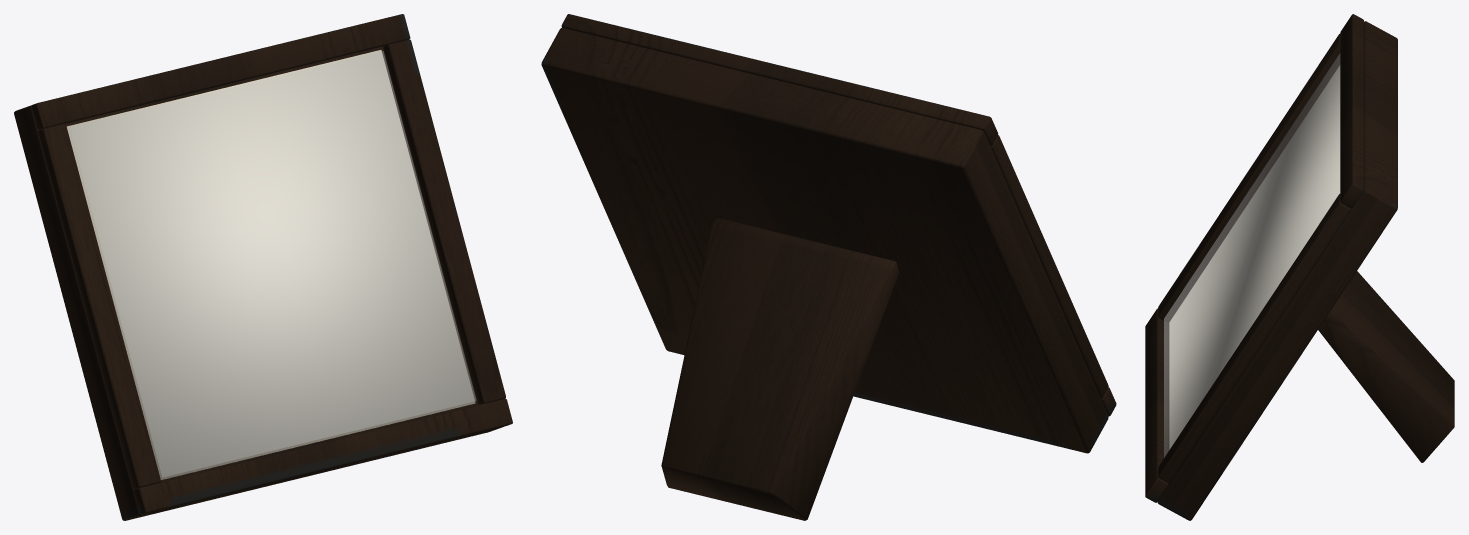
Rendered from square-wood-frame-realistic.glb.
The picture shows the model from 3 angles, left to right: view 1: azimuth 30°, elevation 25°; view 2: azimuth 150°, elevation 25°; view 3: azimuth 270°, elevation 25°; orthographic projection. The views are drawn at different scales.
Visible parts, largest first — view 1: Photo_Slot, Frame_Glass, Frame_Back, Frame_Lip_2, Frame_Lip_3, Frame_Lip_1, Frame_Lip_0; view 2: Frame_Back, Frame_Stand, Frame_Lip_0, Frame_Lip_2; view 3: Frame_Glass, Photo_Slot, Frame_Back, Frame_Stand, Frame_Lip_3, Frame_Lip_2, Frame_Lip_0, Frame_Lip_1.
Boxes of the visible parts, x1=… form: Photo_Slot: x1=66, y1=50, x2=475, y2=479; Frame_Glass: x1=69, y1=51, x2=476, y2=476; Frame_Back: x1=14, y1=46, x2=503, y2=520; Frame_Lip_2: x1=38, y1=123, x2=160, y2=489; Frame_Lip_3: x1=383, y1=39, x2=505, y2=404; Frame_Lip_1: x1=134, y1=398, x2=512, y2=514; Frame_Lip_0: x1=31, y1=14, x2=410, y2=130; Frame_Back: x1=541, y1=28, x2=1108, y2=453; Frame_Stand: x1=661, y1=218, x2=898, y2=520; Frame_Lip_0: x1=561, y1=14, x2=998, y2=145; Frame_Lip_2: x1=990, y1=135, x2=1108, y2=398; Frame_Glass: x1=1164, y1=54, x2=1339, y2=457; Photo_Slot: x1=1169, y1=65, x2=1340, y2=449; Frame_Back: x1=1157, y1=21, x2=1397, y2=520; Frame_Stand: x1=1318, y1=271, x2=1454, y2=462; Frame_Lip_3: x1=1158, y1=194, x2=1350, y2=483; Frame_Lip_2: x1=1158, y1=34, x2=1340, y2=322; Frame_Lip_0: x1=1340, y1=14, x2=1363, y2=208; Frame_Lip_1: x1=1145, y1=308, x2=1168, y2=502.
Bounding box in the file's own units: 0.18 × 0.1659 × 0.1379.
Materials: 4 (3 with a texture image).
